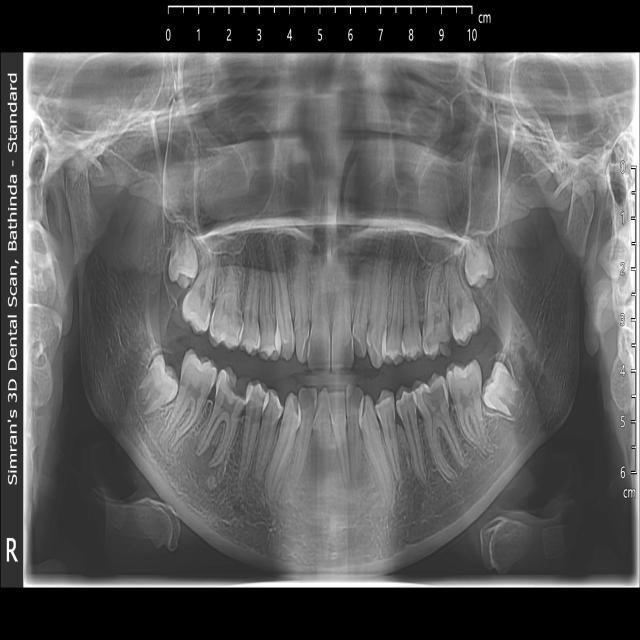Caries: (421, 310, 451, 354), (227, 379, 247, 398), (425, 385, 445, 403)
